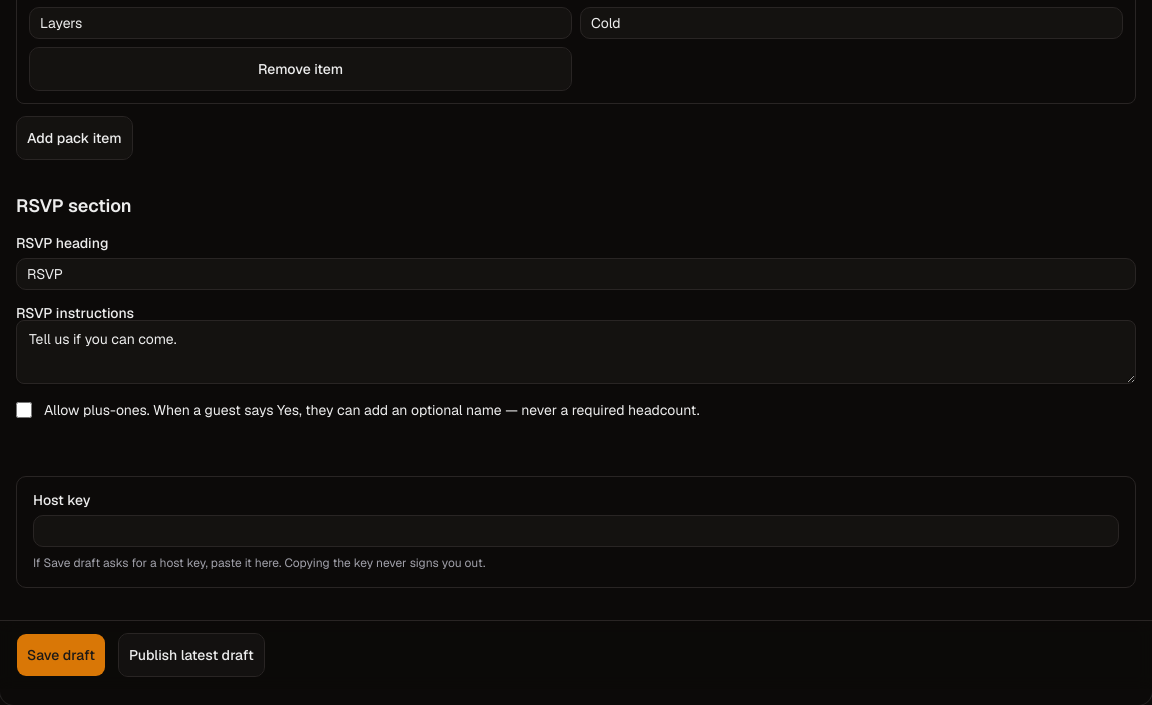
Test: HostEditor draft review safety › invalidates acknowledgement and saved state when RSVP instructions changes
(page scrolled)
Replace the text in the text box labelled "RSVP instructions" with "Reply by Friday." at (576, 352), box [16,320,1136,384]
(page scrolled)
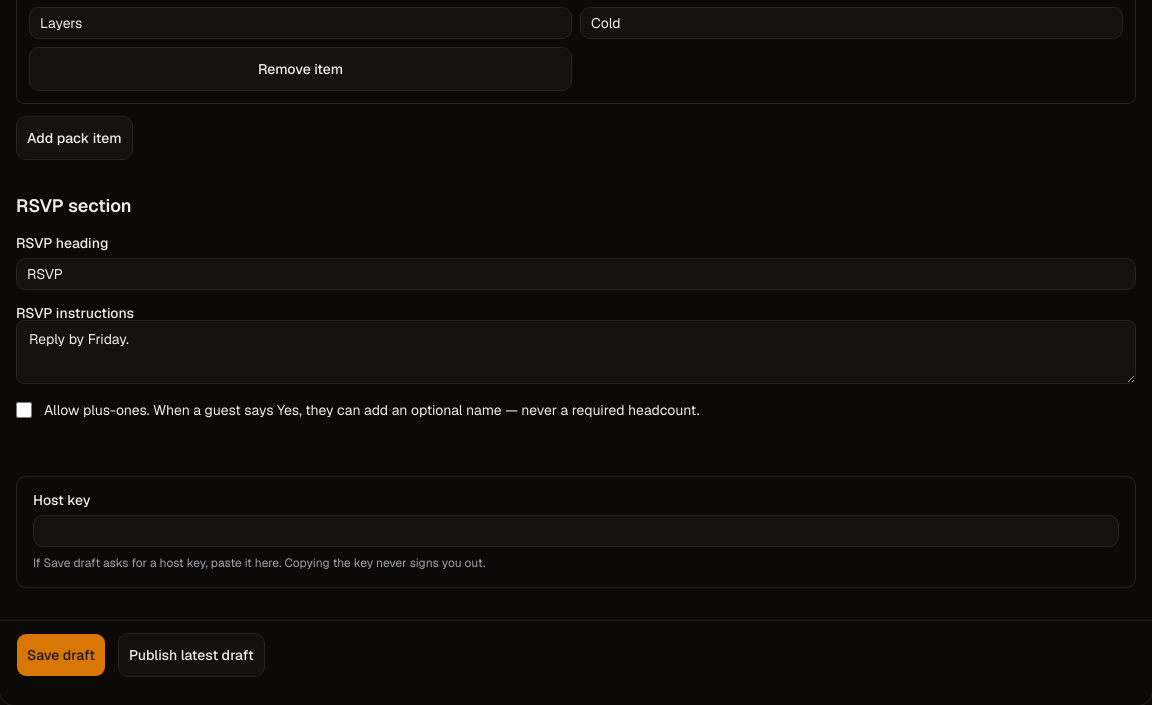
Click the button "Publish latest draft" at (191, 655), box [118,633,265,677]
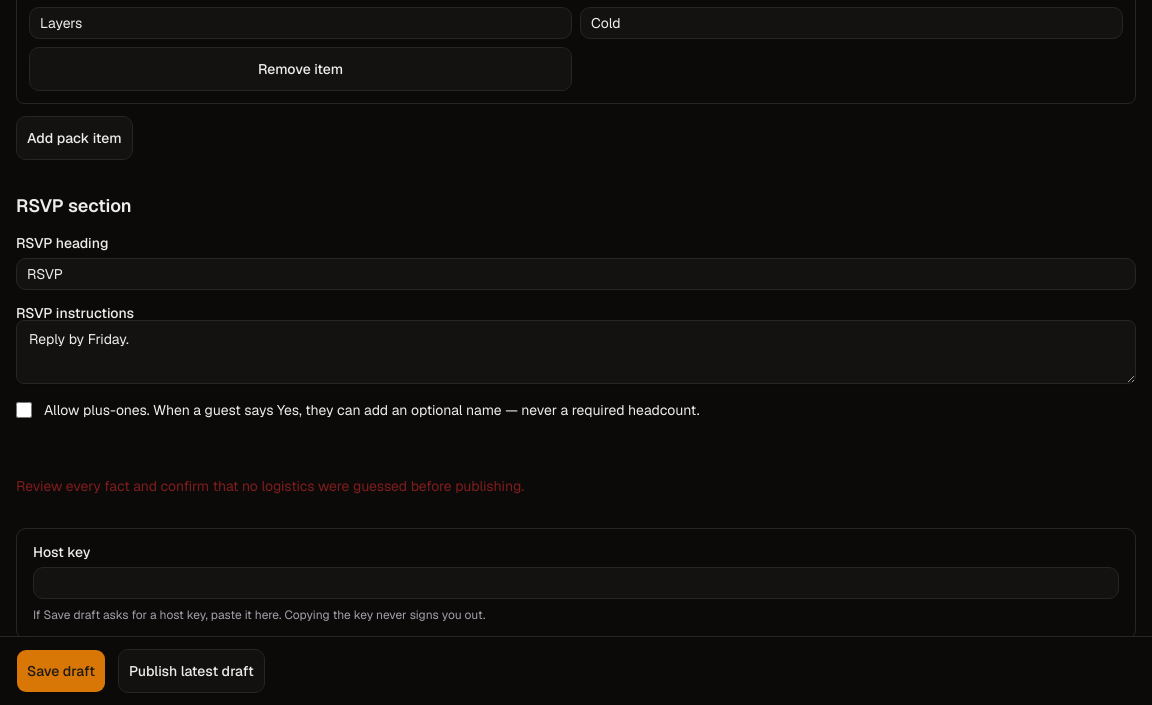
Now the message shows "Review every fact", box [16,477,524,495]
